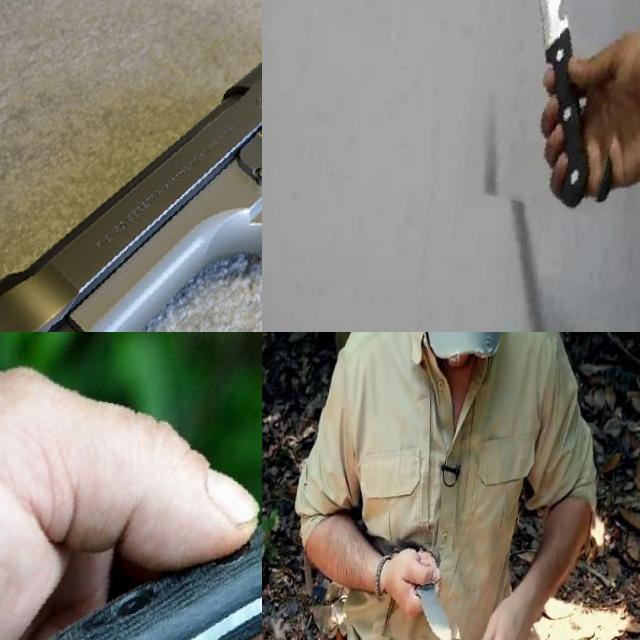-: (0, 332, 262, 640), (469, 0, 640, 209), (381, 540, 480, 640)
gun-knife-thesis - v11 Yolov5 augmented: (0, 0, 262, 332)
